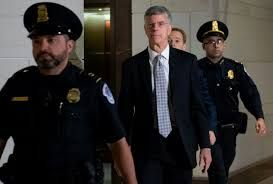uniform: (3, 52, 120, 174), (192, 47, 265, 176)
